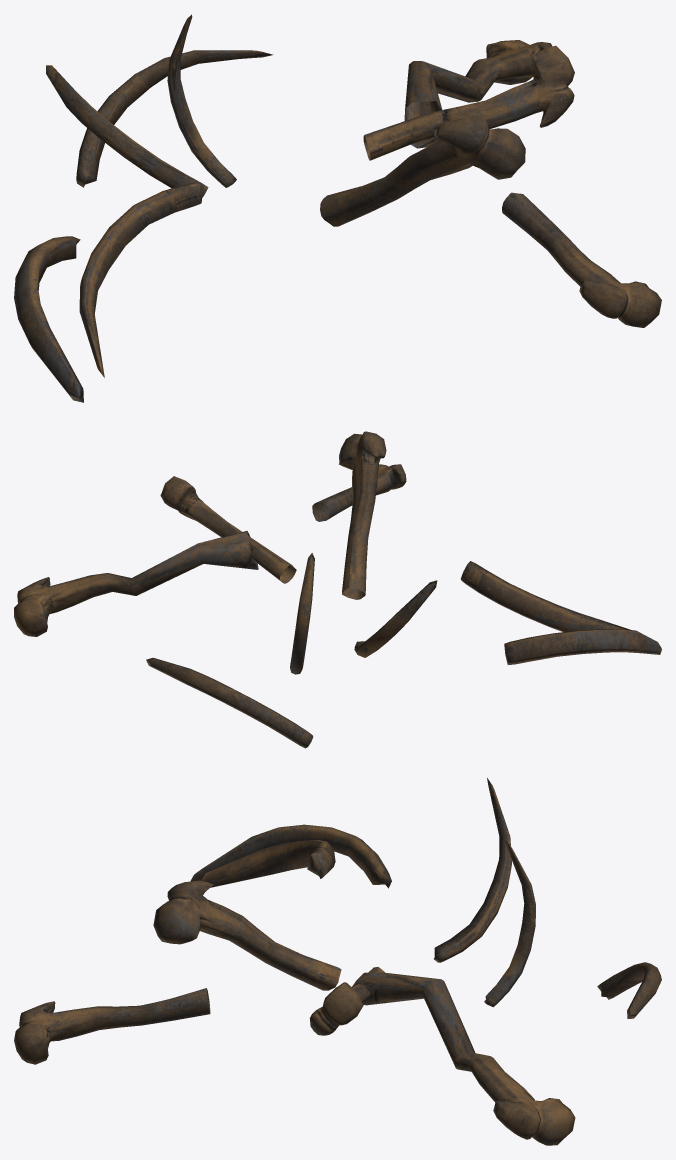
File: bones.obj
3 views of the same model, one above another, from view 1: azimuth 30°, elevation 25°; view 2: azimuth 150°, elevation 25°; view 3: azimuth 270°, elevation 25° (orthographic). The views are drawn at different scales.
Visible parts, largest first — view 1: defaultMaterial.001; view 2: defaultMaterial.001; view 3: defaultMaterial.001.
Part boxes in pixels (x1,y1,x2,y2): defaultMaterial.001: (14,14,661,402); defaultMaterial.001: (14,431,661,748); defaultMaterial.001: (14,778,661,1145).
Size of the model in its own units: 32.94 by 9.68 by 30.86.
